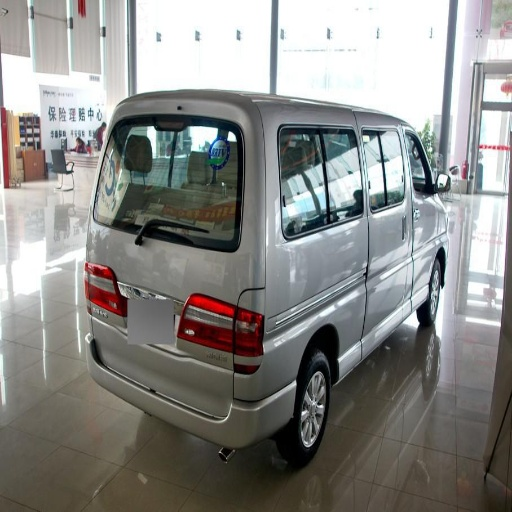back_bumper: (89, 314, 293, 449)
back_left_light: (84, 258, 122, 313)
back_right_door: (326, 123, 407, 237), (285, 152, 323, 214)
trunk: (93, 160, 355, 402)
